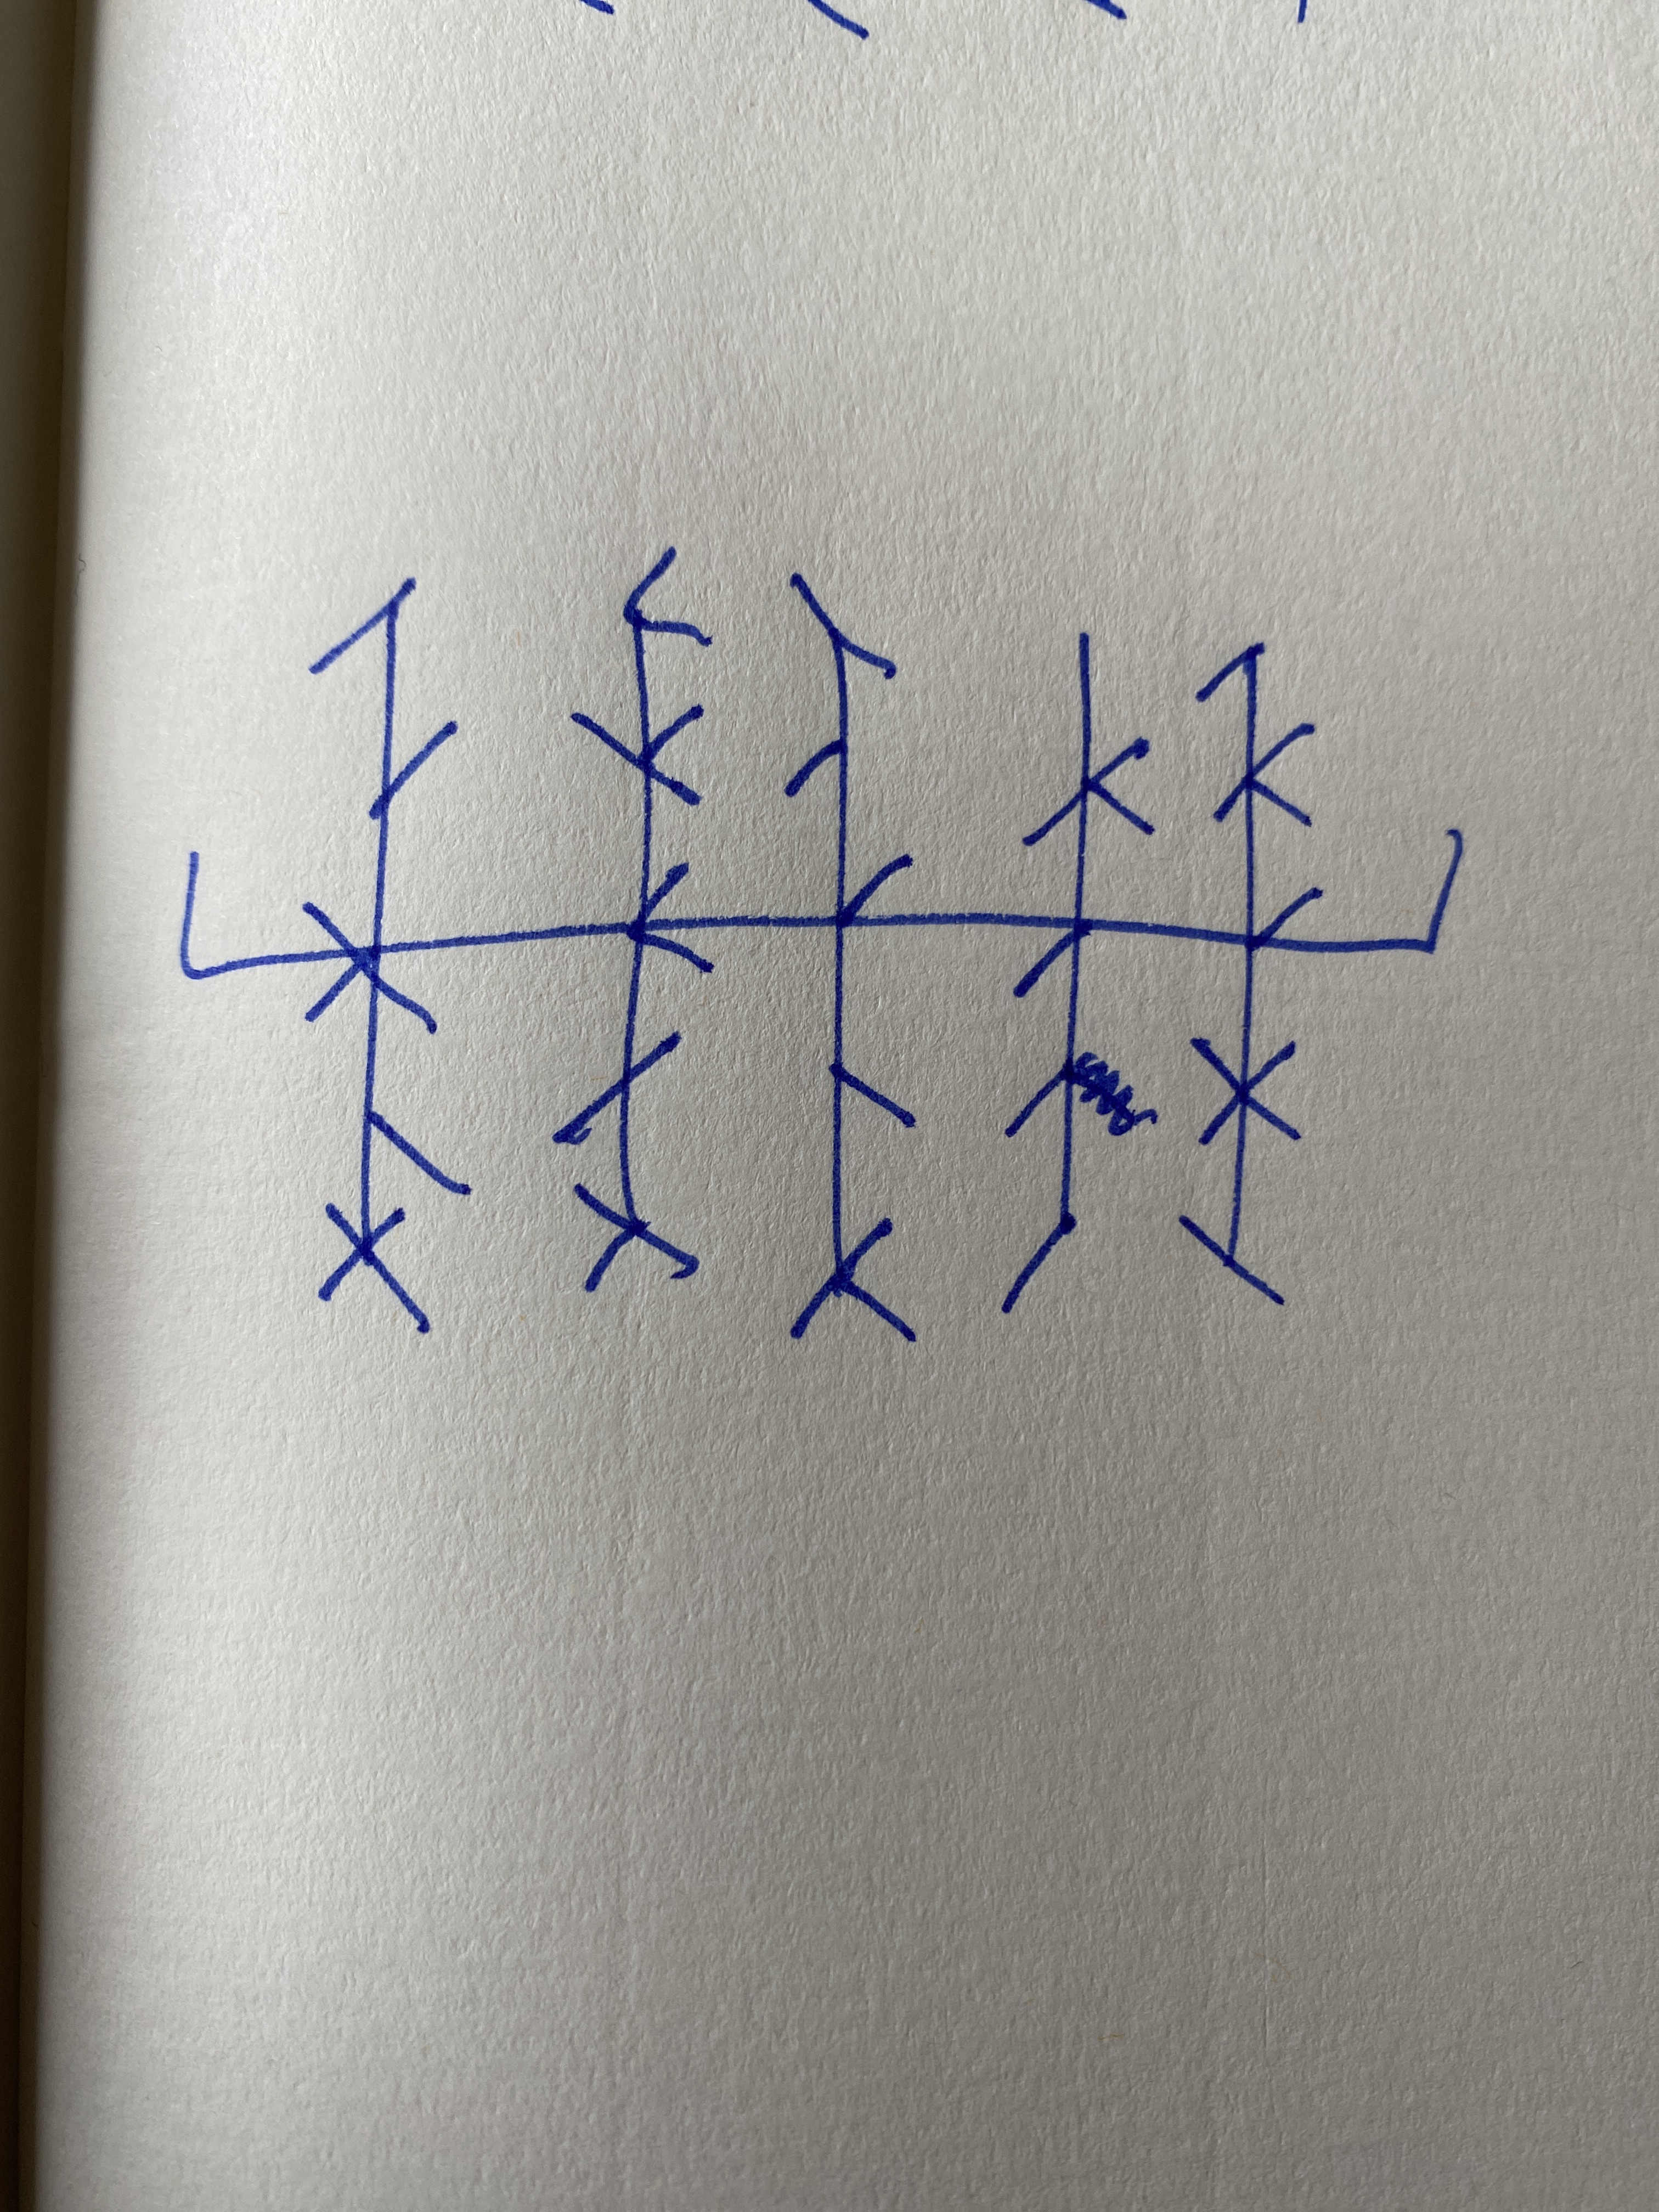Bar: (310, 575, 472, 1336), (551, 547, 714, 1292), (1002, 629, 1157, 1315), (784, 573, 918, 1339), (1178, 641, 1321, 1310)
Barcode: (179, 547, 1464, 1343)
End: (1323, 829, 1466, 958)
Start: (173, 848, 298, 981)
